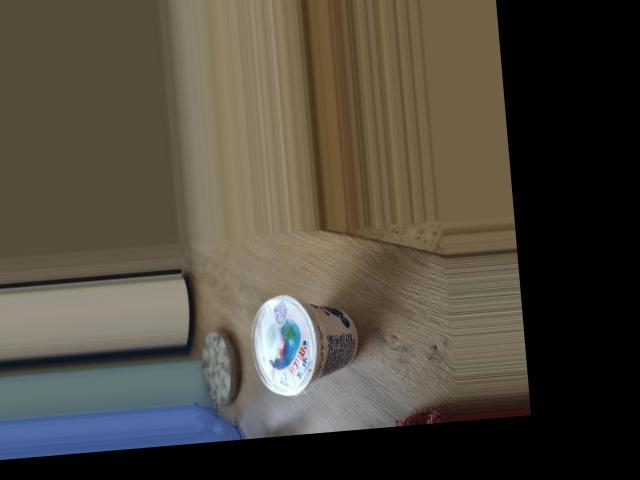cotage: (244, 284, 377, 382)
